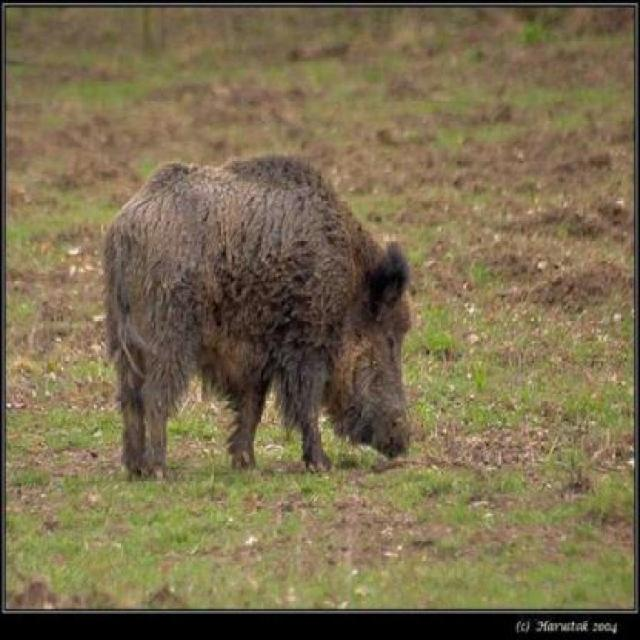pig: (34, 67, 574, 636)
